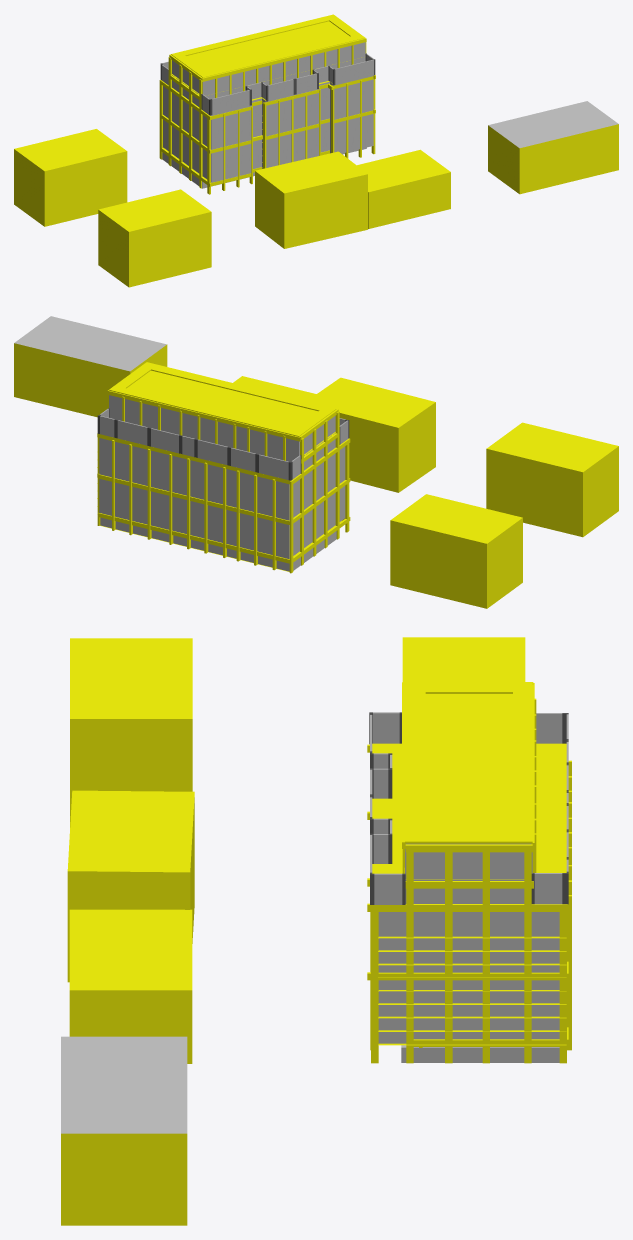
Rendered from argyleWithExtraBuildingsAndStreet.glb.
The picture shows the model from 3 angles, top to bottom: view 1: azimuth 30°, elevation 25°; view 2: azimuth 150°, elevation 25°; view 3: azimuth 270°, elevation 25°; orthographic projection. The views are drawn at different scales.
Visible parts, largest first — view 1: Building, Tesco, Coop, Monkey, Coop001, Pizza, Box129, Box180, Box182, Box184, Box185, Box073; view 2: Building, Coop001, Coop, Tesco, Monkey, Bottom, Box127, Box113, Box114, Box115, Pizza, Box194 (+10 smaller); view 3: Building, Tesco, Coop, Pizza, Monkey, Coop001, Bottom, GlassBarrier (×2), Box051, Box056, Box058, Box055 (+9 smaller).
Boxes of the visible parts, x1,y1,x2,y2 form: Building: [163, 14, 373, 182]; Tesco: [488, 101, 618, 194]; Coop: [98, 189, 211, 287]; Monkey: [255, 151, 367, 248]; Coop001: [14, 129, 127, 226]; Pizza: [357, 149, 450, 228]; Box129: [202, 38, 366, 81]; Box180: [333, 59, 375, 84]; Box182: [210, 89, 251, 114]; Box184: [266, 79, 294, 101]; Box185: [295, 73, 318, 94]; Box073: [168, 57, 171, 166]; Building: [99, 362, 345, 558]; Coop001: [390, 494, 522, 608]; Coop: [486, 422, 618, 537]; Tesco: [14, 316, 167, 417]; Monkey: [307, 377, 435, 492]; Bottom: [100, 517, 336, 571]; Box127: [108, 390, 300, 441]; Box113: [98, 513, 289, 563]; Box114: [98, 474, 289, 524]; Box115: [98, 434, 290, 484]; Pizza: [233, 376, 316, 400]; Box194: [257, 454, 290, 480]; Building: [372, 683, 566, 1043]; Tesco: [61, 1036, 187, 1225]; Coop: [70, 638, 192, 827]; Pizza: [69, 909, 192, 1063]; Monkey: [67, 790, 194, 982]; Coop001: [402, 637, 525, 682]; Bottom: [401, 1045, 559, 1062]; GlassBarrier (×2): [531, 713, 566, 904]; Box051: [406, 847, 413, 1063]; Box056: [445, 847, 452, 1063]; Box058: [524, 847, 531, 1063]; Box055: [482, 847, 489, 1063].
Size of what is drawn, in the model's own units: 417 by 89.9 by 188.
22 materials, 9 textured.
